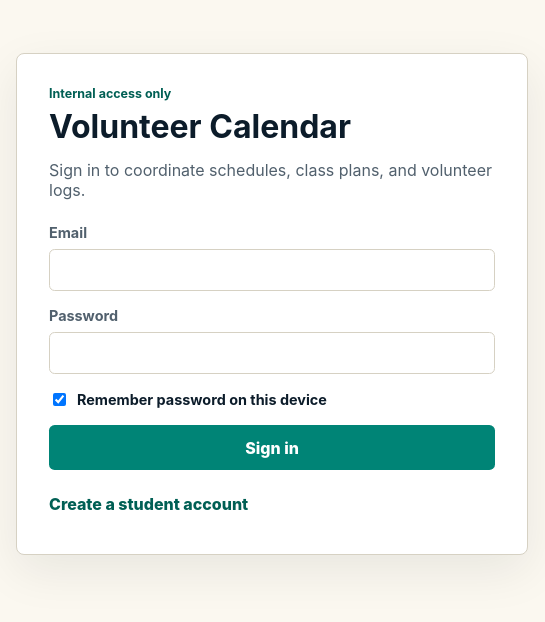
App › shows the Firebase sign-in failure reason
The width and height of the screenshot is (545, 622).
Type "student@example.com" into the field labelled "Email" at (272, 270), box [49, 249, 495, 291]
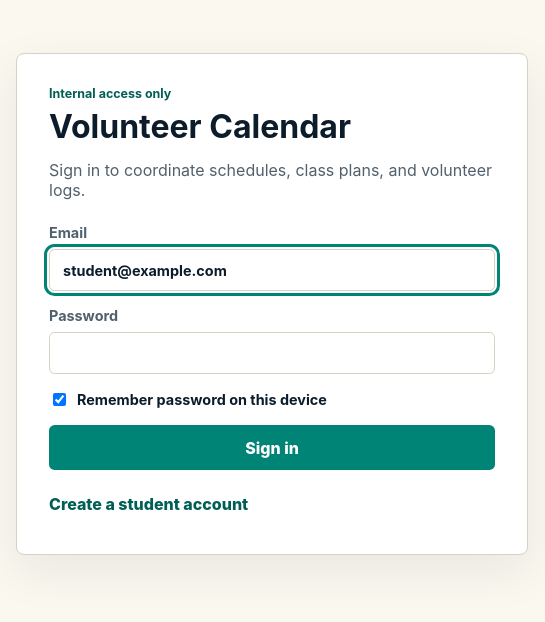
Type "wrong-password" into the password field labelled "Password" at (272, 353), box [49, 332, 495, 374]
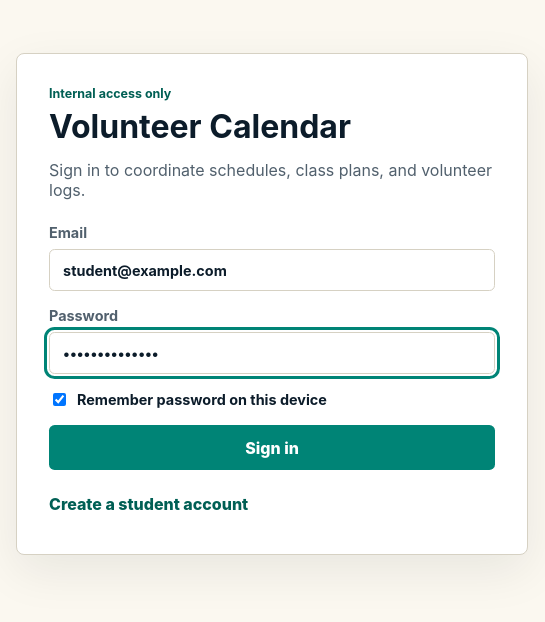
Click the button "Sign in" at (272, 448), box [49, 425, 495, 470]
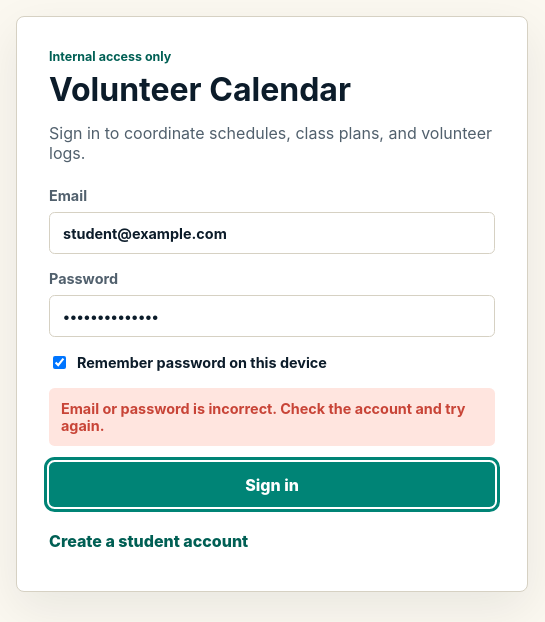
Result: the text "Email or password is incorrect. Check the account and try again." is shown at [49, 388, 495, 446]
